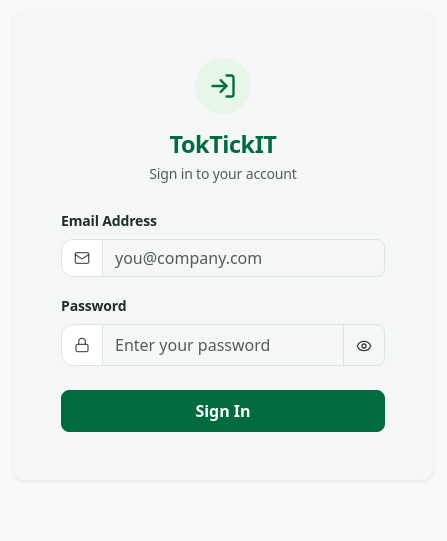
Test: Login Component (UI-01, AC-01) › displays safe error banner on invalid credentials without user leakage
Type "wrong@example.com" into the field labelled "Email Address" at (244, 258), box x1=102 y1=239 x2=385 y2=277
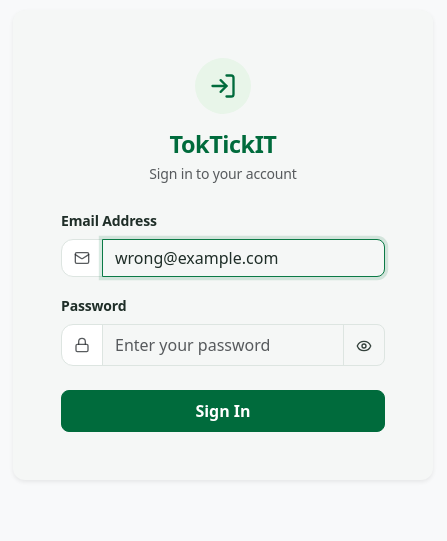
Type "WrongPassword123!" into the password field labelled "Password" at (223, 345), box x1=102 y1=324 x2=344 y2=366
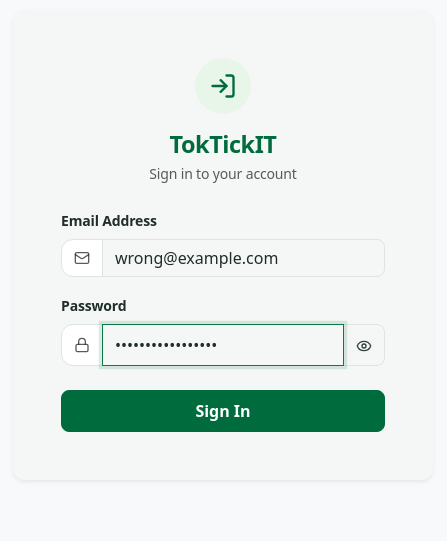
Click the button "Sign In" at (223, 411), box x1=61 y1=390 x2=385 y2=432
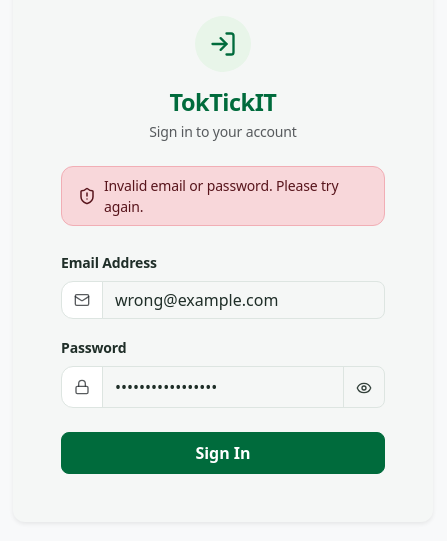
Now the text "Invalid email or password. Please try again." is shown, box x1=104 y1=175 x2=368 y2=217
